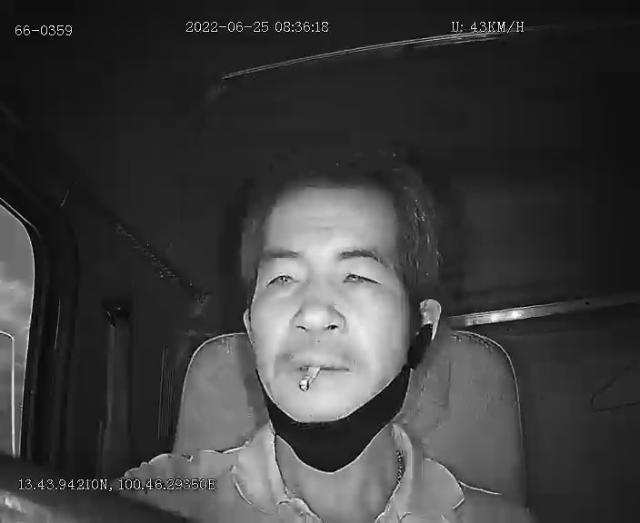SafeDriving: (258, 255, 308, 298), (333, 256, 387, 294)
Smoking: (298, 363, 322, 392)
